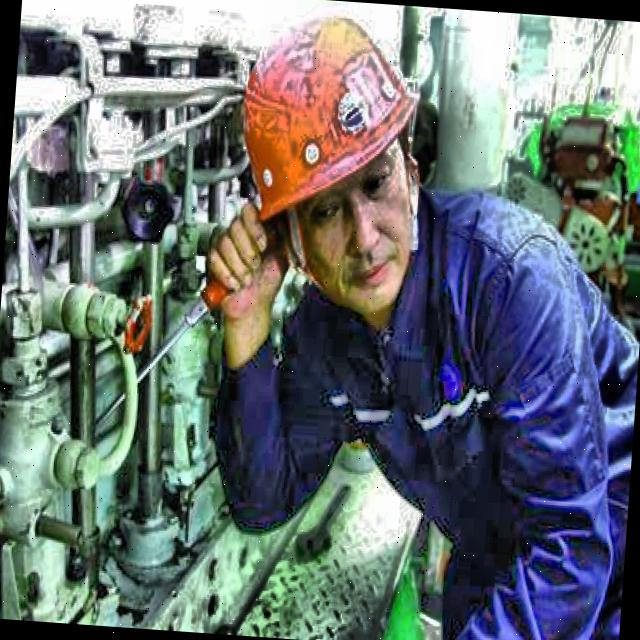helmet: (212, 1, 442, 318)
